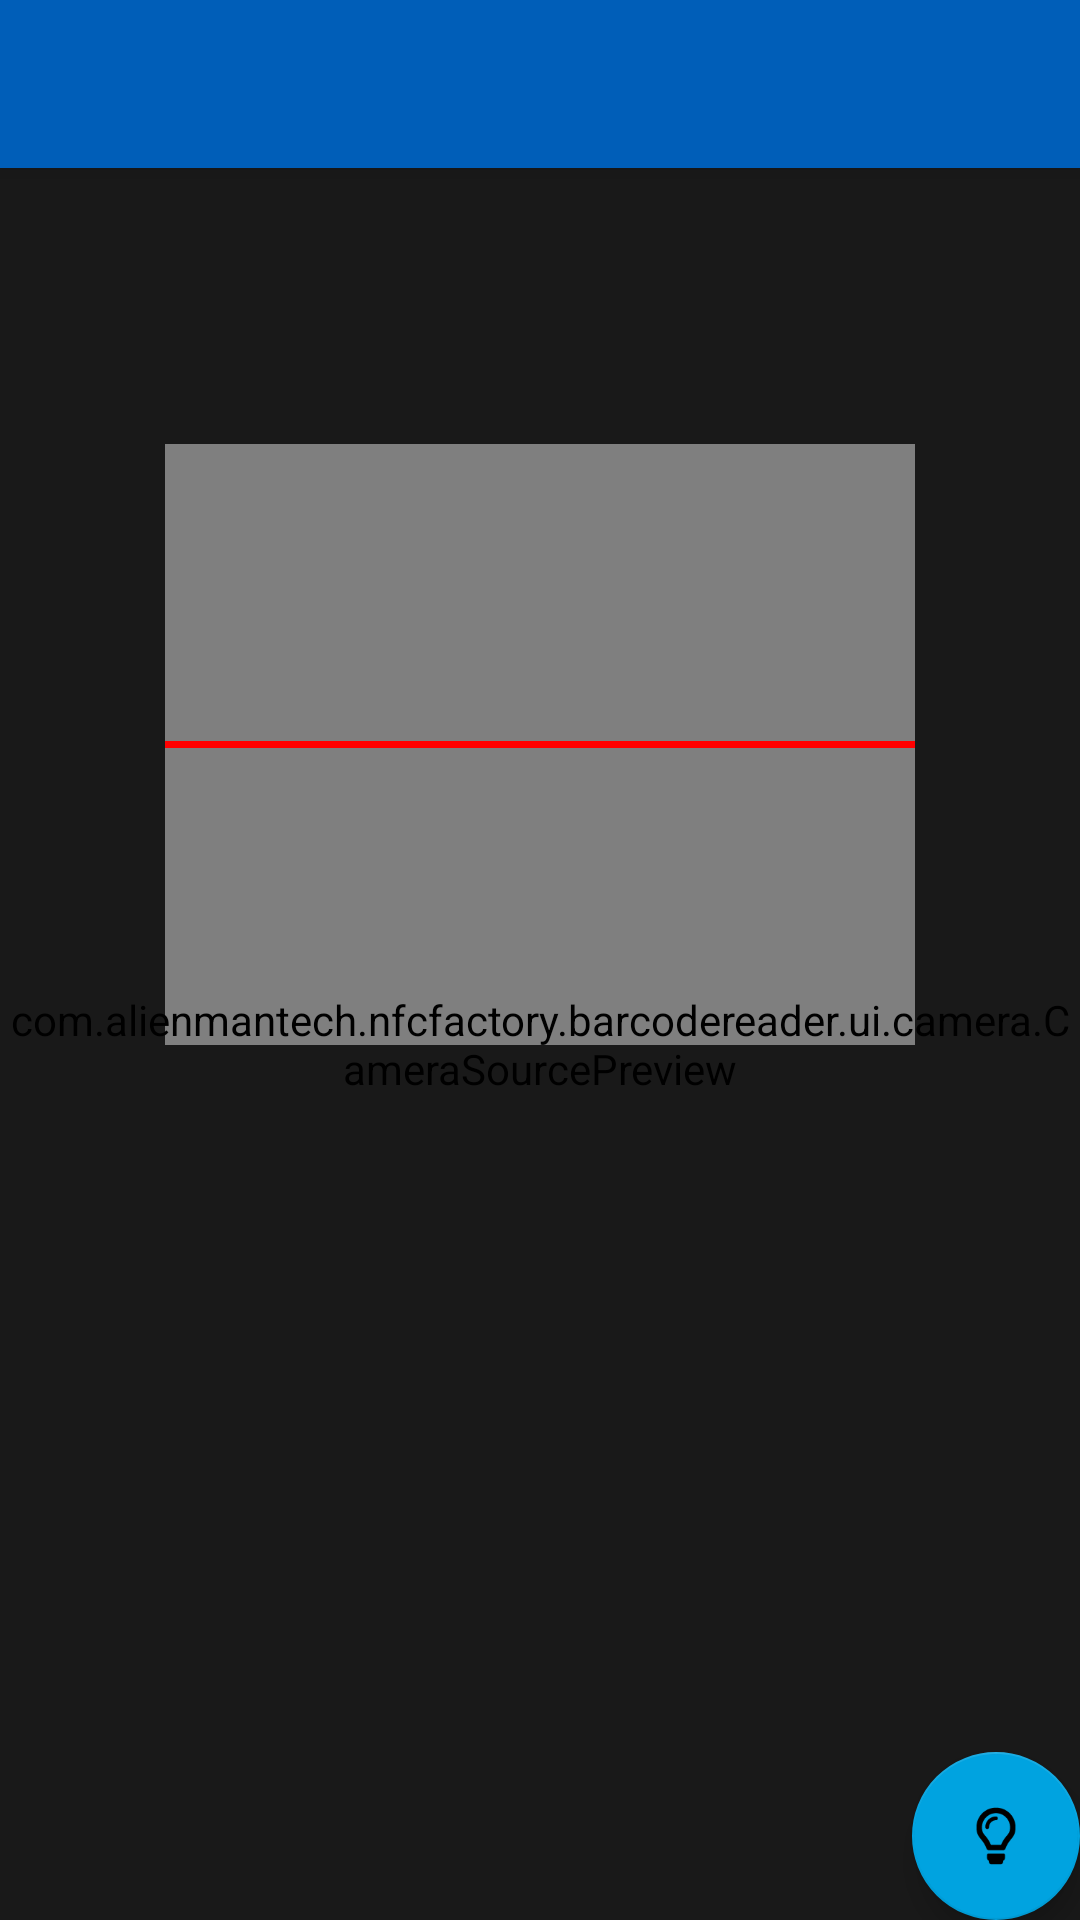

Point at icon controls on the screen. Image size 1080*1920, points as (x=x, y=y).
lightbulb: (x=996, y=1836)
